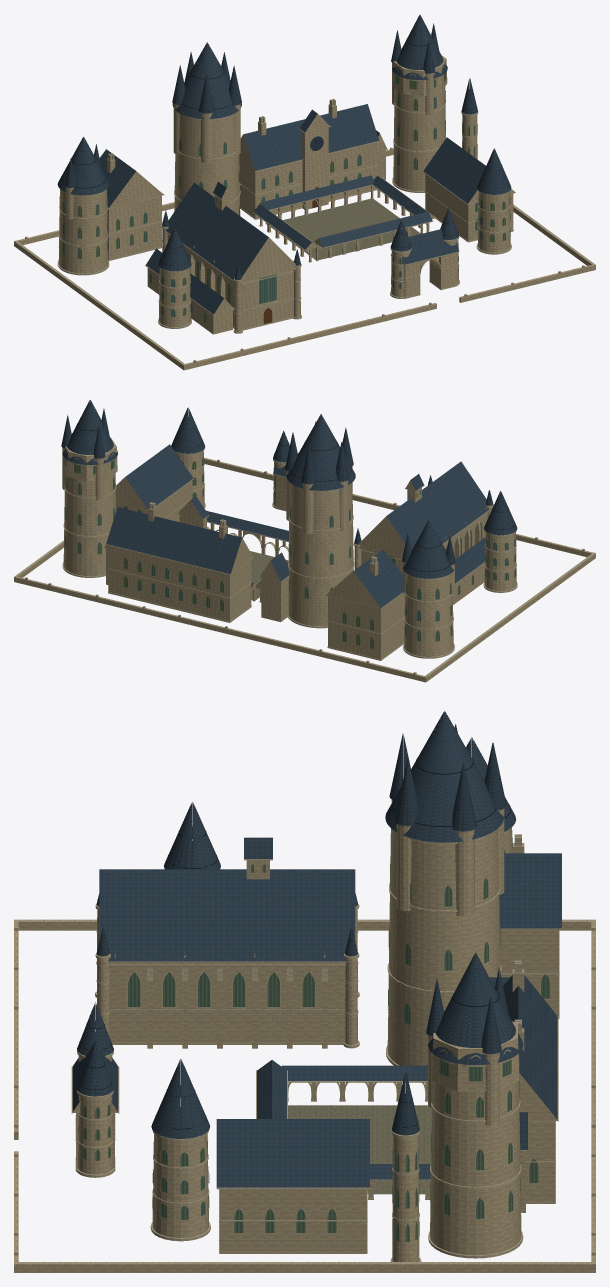
Rendered from building_1792077236.glb.
The picture shows the model from 3 angles, top to bottom: view 1: azimuth 30°, elevation 25°; view 2: azimuth 150°, elevation 25°; view 3: azimuth 270°, elevation 25°; orthographic projection. The views are drawn at different scales.
Parts seen in each view (by area): view 1: hogwarts-castle-stone, hogwarts-castle-slate, hogwarts-castle-trim, hogwarts-castle-glass, hogwarts-castle-paving; view 2: hogwarts-castle-stone, hogwarts-castle-slate, hogwarts-castle-trim, hogwarts-castle-glass, hogwarts-castle-paving; view 3: hogwarts-castle-stone, hogwarts-castle-slate, hogwarts-castle-trim, hogwarts-castle-glass, hogwarts-castle-paving, hogwarts-castle-metal.
Part boxes in pixels (box(x1,y1,x2,y2)): hogwarts-castle-stone: box(14, 55, 595, 370); hogwarts-castle-slate: box(57, 14, 511, 314); hogwarts-castle-trim: box(14, 66, 595, 365); hogwarts-castle-glass: box(59, 73, 510, 322); hogwarts-castle-paving: box(271, 198, 420, 259); hogwarts-castle-stone: box(14, 438, 595, 682); hogwarts-castle-slate: box(61, 400, 517, 607); hogwarts-castle-trim: box(14, 449, 595, 677); hogwarts-castle-glass: box(64, 458, 516, 648); hogwarts-castle-paving: box(250, 551, 288, 600); hogwarts-castle-stone: box(14, 799, 595, 1272); hogwarts-castle-slate: box(72, 711, 561, 1187); hogwarts-castle-trim: box(14, 827, 595, 1264); hogwarts-castle-glass: box(78, 838, 550, 1241); hogwarts-castle-paving: box(288, 1105, 431, 1194); hogwarts-castle-metal: box(79, 711, 510, 1129).
Bounding box in the file's own units: 210 × 97.2 × 150.
Materials: 7 (7 with a texture image).
